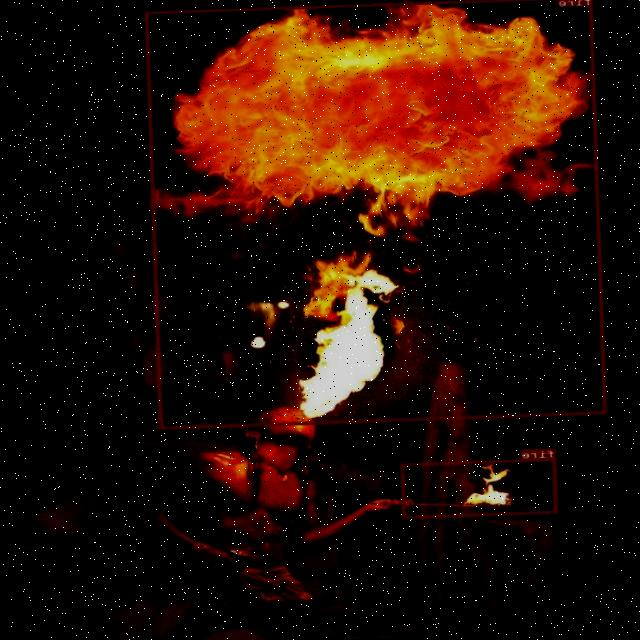fire: (145, 0, 608, 428), (401, 458, 558, 518)
